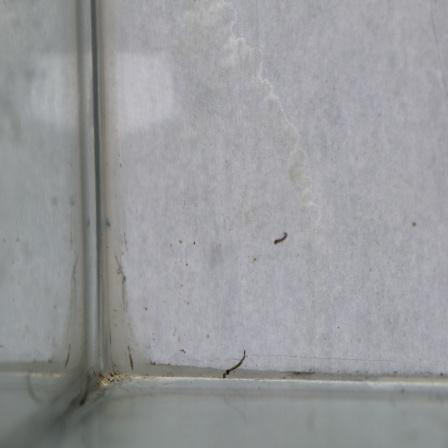Jentik-Nyamuk: (218, 347, 248, 379), (269, 226, 291, 248)
